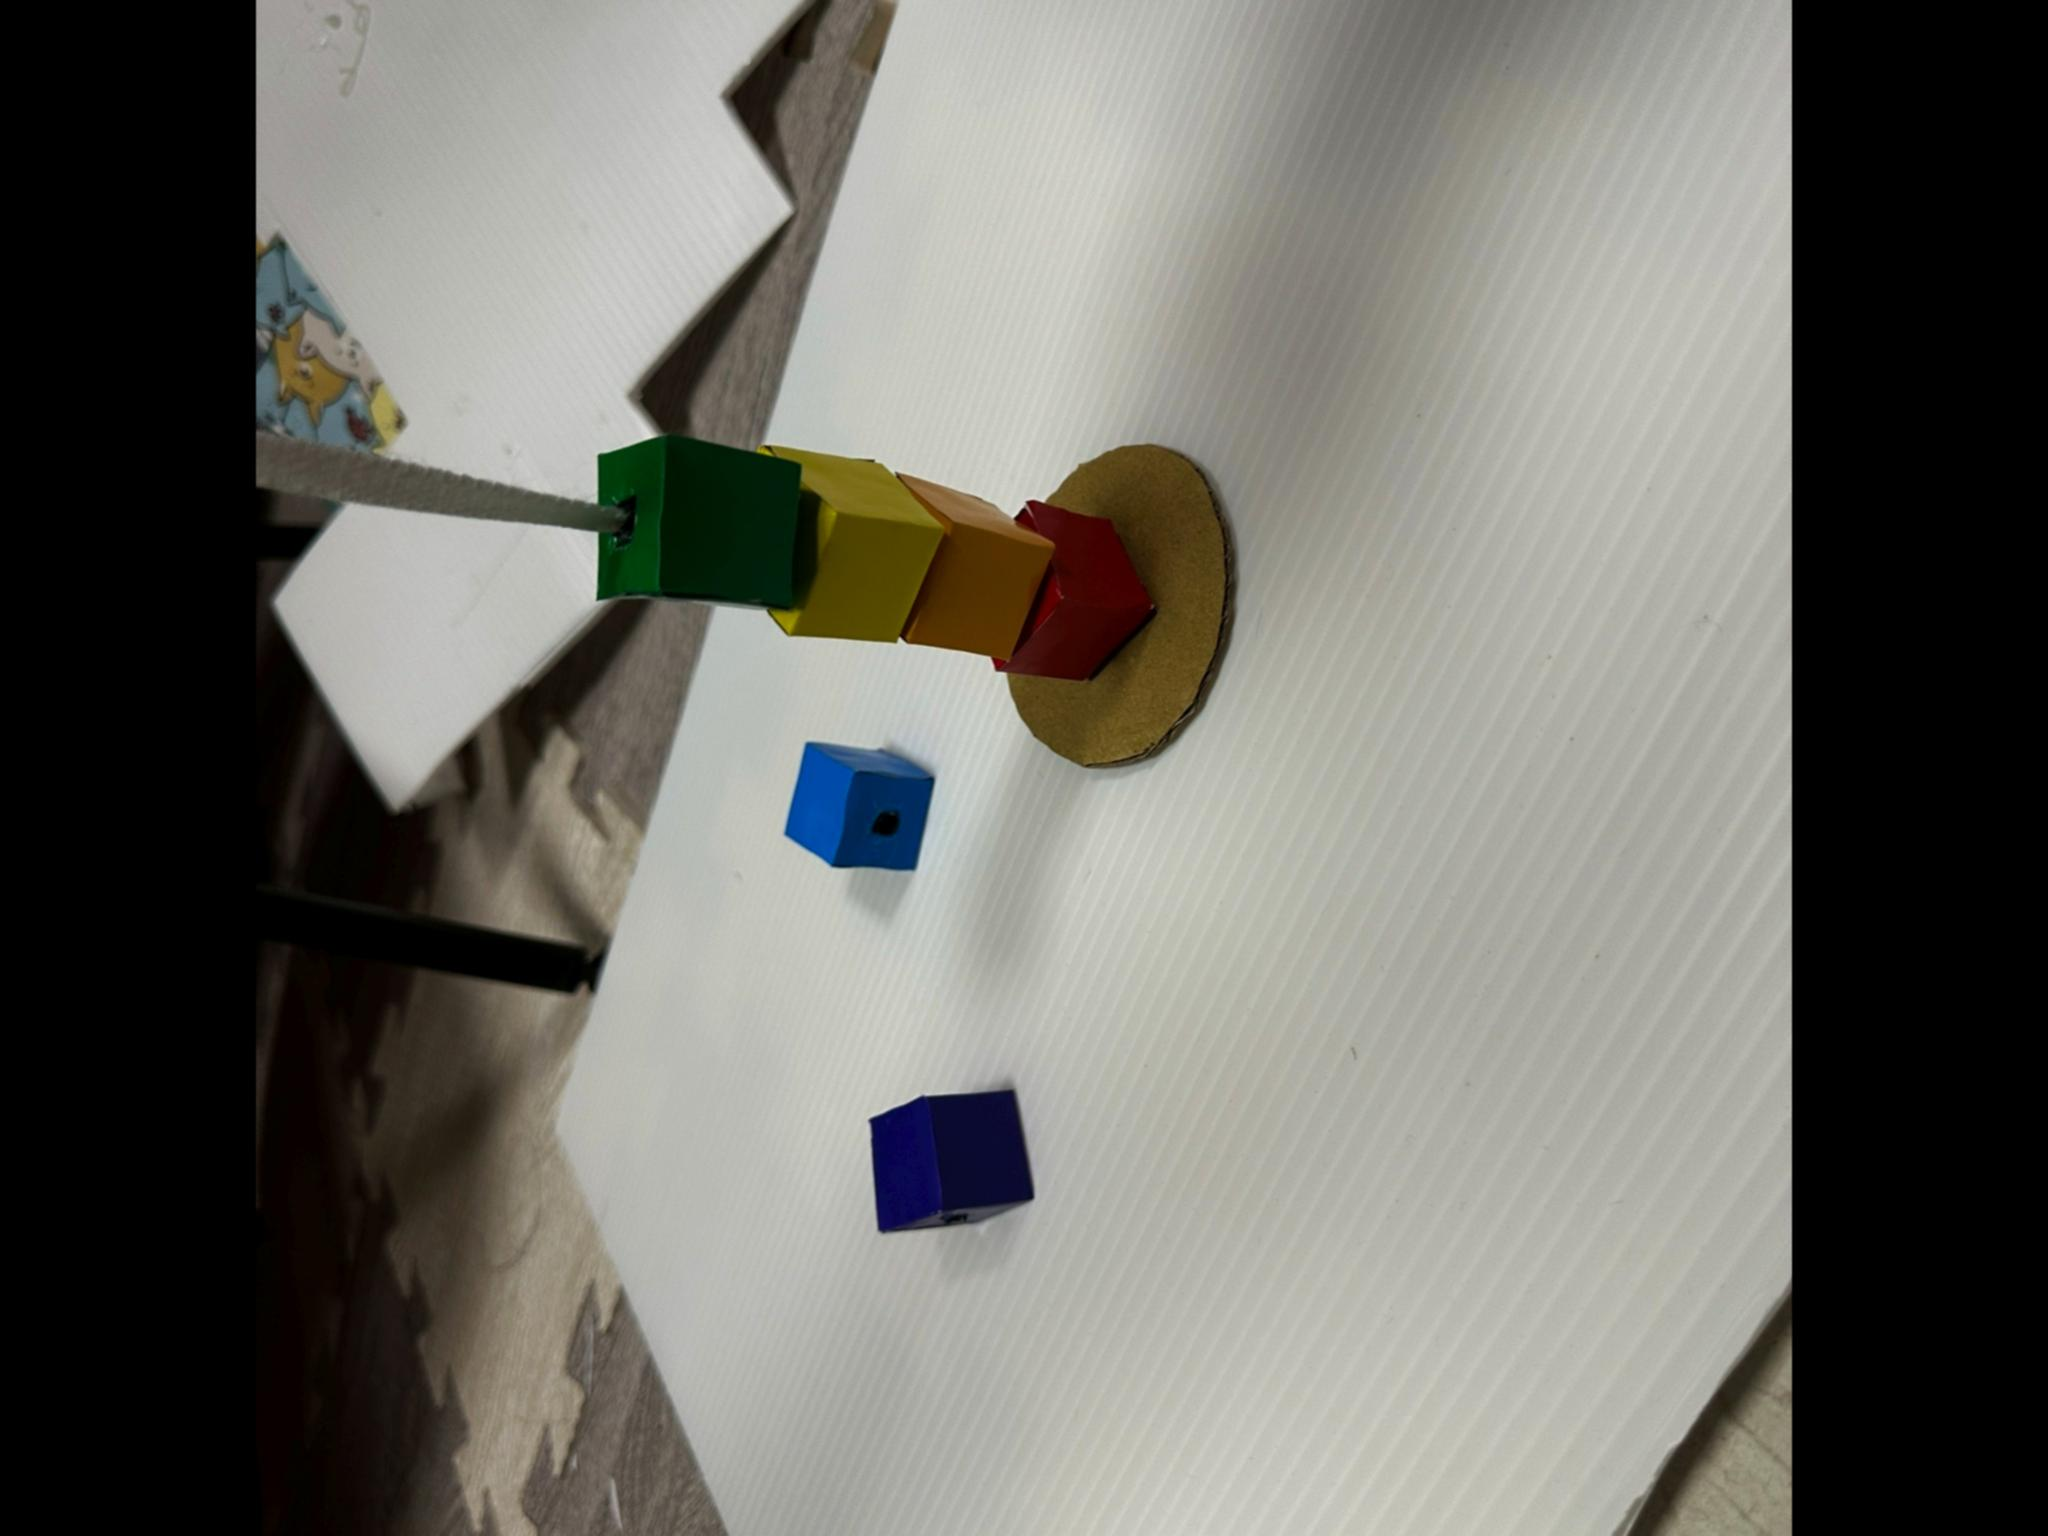base: (1008, 444, 1232, 765)
cube: (760, 444, 945, 641), (598, 436, 800, 607), (993, 500, 1153, 679), (898, 474, 1051, 658), (871, 1089, 1034, 1229), (787, 742, 934, 868)
